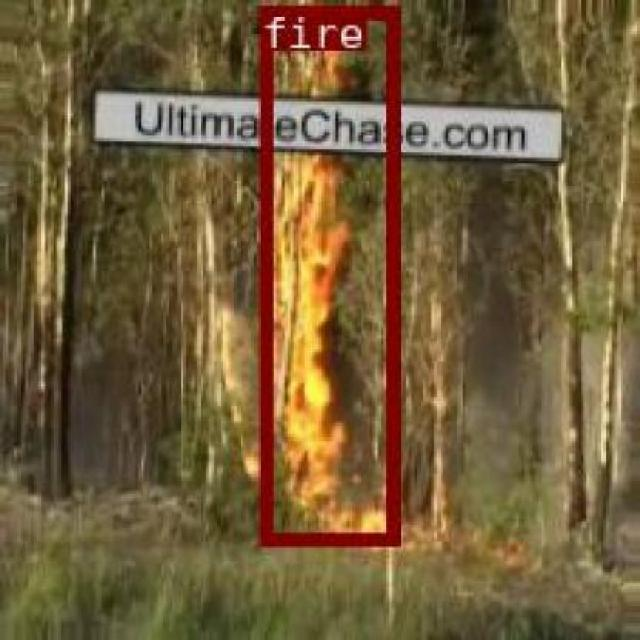Fire: (243, 8, 383, 548)
Smoke: (420, 0, 577, 560)
